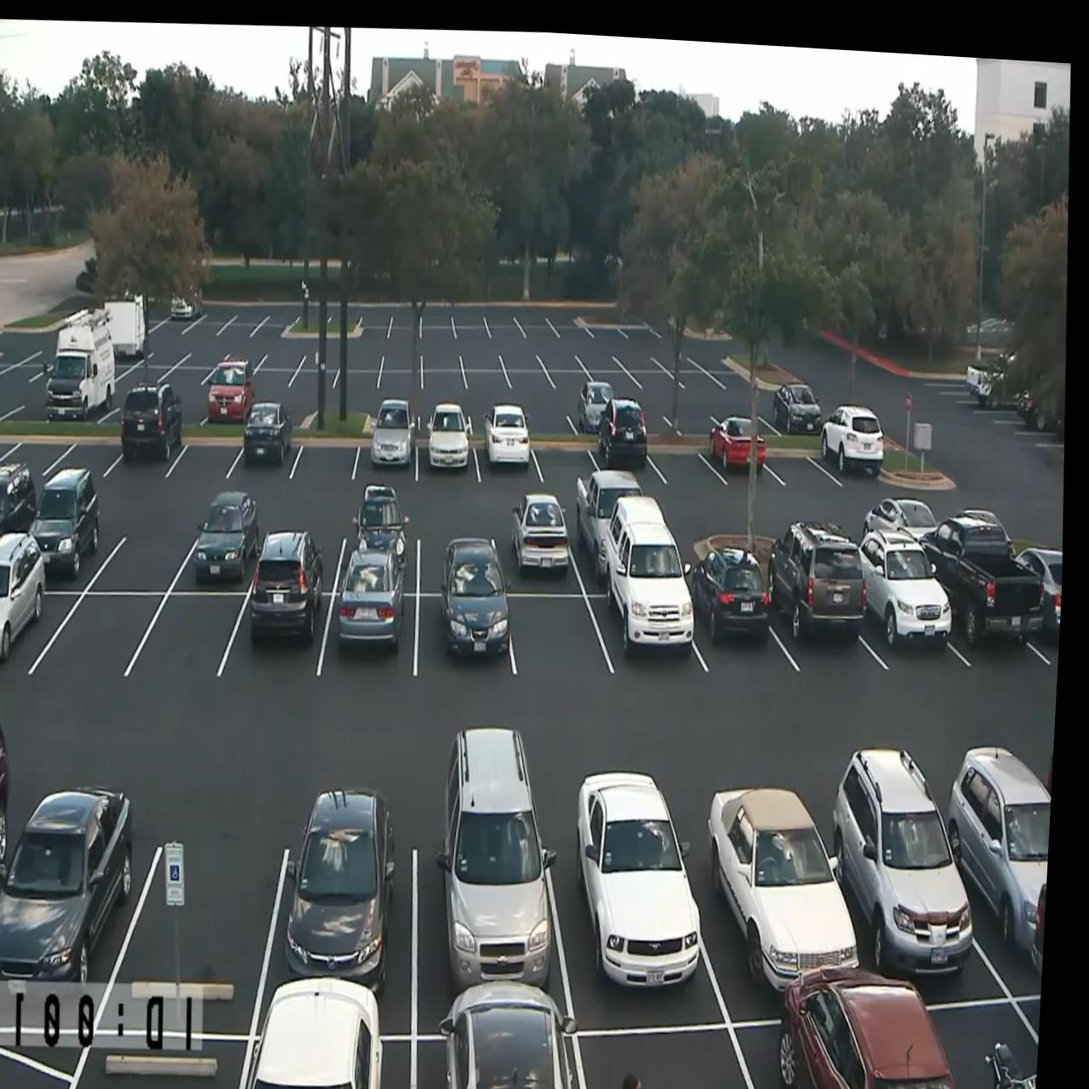cars: (406, 787, 567, 1032), (555, 793, 712, 1019), (692, 788, 845, 1006), (272, 807, 425, 1020), (835, 775, 988, 987), (0, 785, 134, 1010), (934, 740, 1054, 956), (743, 982, 953, 1089), (492, 464, 588, 598), (594, 584, 703, 702), (567, 467, 667, 592), (933, 571, 1053, 674), (221, 586, 322, 701), (927, 992, 1041, 1089), (409, 585, 513, 691), (850, 578, 960, 677), (321, 589, 423, 695), (767, 585, 868, 686), (12, 482, 99, 592), (182, 500, 273, 602), (690, 595, 788, 689), (103, 395, 195, 489), (227, 401, 313, 500), (344, 496, 427, 589), (696, 416, 775, 499), (0, 575, 53, 685), (359, 408, 427, 490), (589, 419, 657, 494), (42, 360, 112, 432), (419, 415, 478, 491), (202, 353, 259, 429), (822, 425, 879, 496), (479, 419, 538, 479), (574, 379, 618, 438), (781, 391, 826, 426)
empty: (100, 798, 298, 1038), (41, 584, 152, 697), (136, 578, 237, 696), (502, 588, 610, 694), (97, 498, 196, 612), (257, 502, 352, 601), (415, 489, 506, 590), (165, 402, 255, 502), (291, 409, 368, 501), (50, 417, 131, 493), (763, 432, 840, 510), (0, 413, 65, 499), (647, 423, 719, 498), (111, 373, 168, 441), (163, 389, 212, 448), (536, 435, 591, 486), (620, 392, 675, 434), (136, 337, 184, 384), (363, 385, 416, 425), (182, 338, 230, 380), (686, 396, 736, 435), (248, 360, 294, 399), (332, 365, 383, 400), (730, 400, 784, 433), (416, 390, 469, 422), (119, 371, 170, 404), (527, 404, 575, 439), (652, 336, 700, 368), (224, 339, 269, 372), (265, 340, 310, 372), (471, 395, 520, 424), (501, 366, 548, 395), (538, 347, 583, 376), (418, 339, 463, 368), (376, 363, 421, 392), (177, 364, 225, 391), (293, 364, 336, 393), (342, 342, 380, 374), (588, 368, 633, 395), (423, 364, 467, 391), (382, 341, 420, 372), (667, 367, 716, 391), (618, 341, 658, 370), (461, 342, 503, 369), (489, 320, 528, 349), (499, 344, 539, 372), (187, 316, 227, 344), (305, 342, 344, 370), (631, 366, 676, 390), (553, 367, 593, 394), (420, 327, 460, 354), (719, 369, 758, 396), (467, 368, 506, 395), (233, 303, 269, 331), (579, 345, 616, 372), (521, 324, 563, 347), (484, 306, 526, 329), (696, 342, 731, 369), (357, 320, 393, 346), (518, 309, 560, 331), (270, 304, 303, 332), (386, 320, 423, 344), (357, 305, 394, 329), (454, 305, 488, 331), (420, 310, 458, 333), (200, 305, 231, 333), (455, 322, 492, 345), (554, 322, 594, 343), (390, 306, 425, 330), (224, 320, 259, 340), (557, 308, 591, 328), (256, 318, 290, 338), (159, 315, 188, 338), (589, 323, 627, 338)
